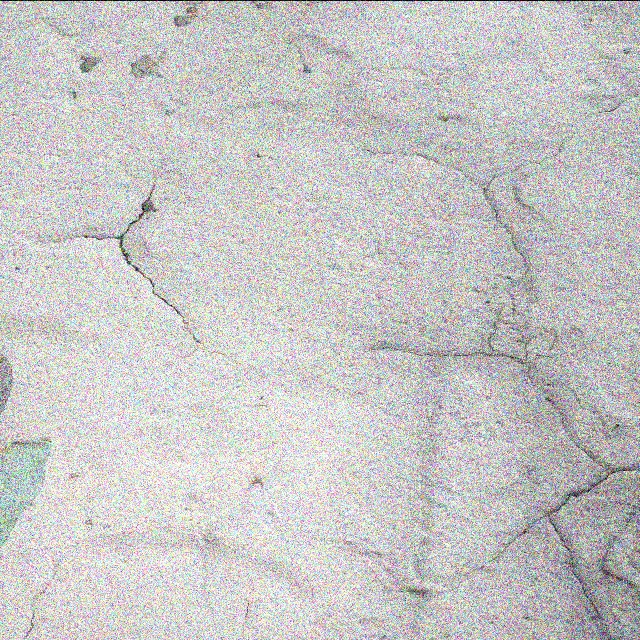SurfaceCrack: (74, 3, 227, 385)
